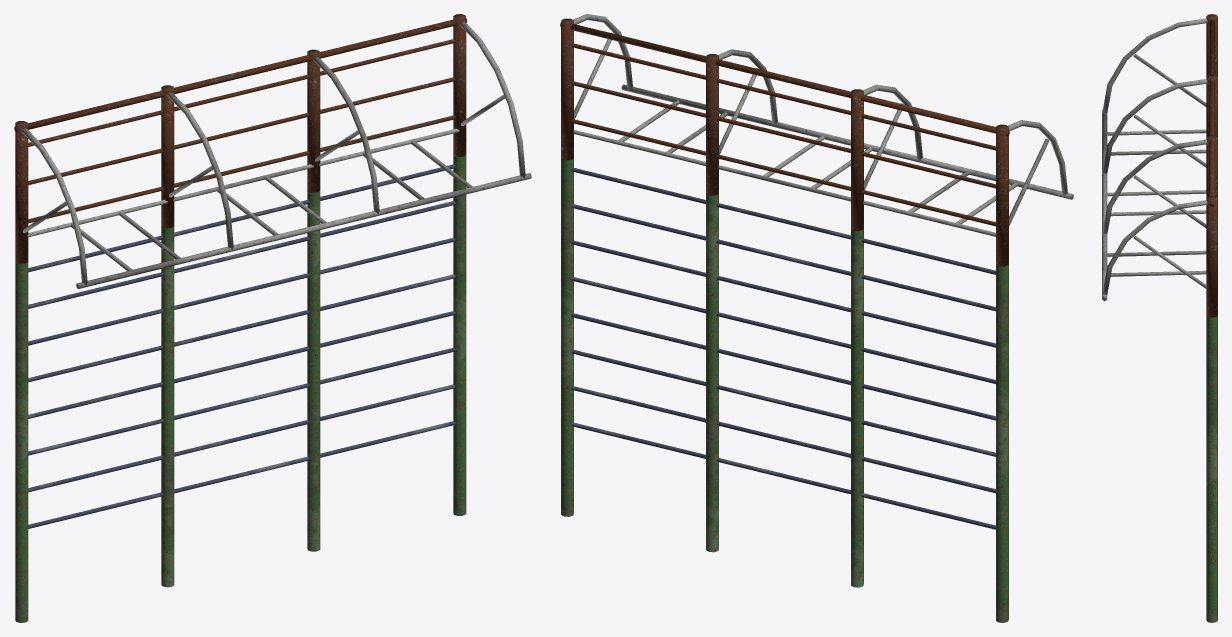
The model's file is playground_wall_bars_lod1_web.glb.
3 views of the same model, side by side, from view 1: azimuth 30°, elevation 25°; view 2: azimuth 150°, elevation 25°; view 3: azimuth 270°, elevation 25° (orthographic). The views are drawn at different scales.
Parts seen in each view (by area): view 1: WallBars_Mesh; view 2: WallBars_Mesh; view 3: WallBars_Mesh.
Part boxes in pixels (x1,y1,x2,y2): WallBars_Mesh: [14, 14, 531, 622]; WallBars_Mesh: [560, 14, 1073, 622]; WallBars_Mesh: [1102, 14, 1217, 622].
Bounding box in the file's own units: 3.1 × 3.25 × 0.808.
Materials: 4 (4 with a texture image).
